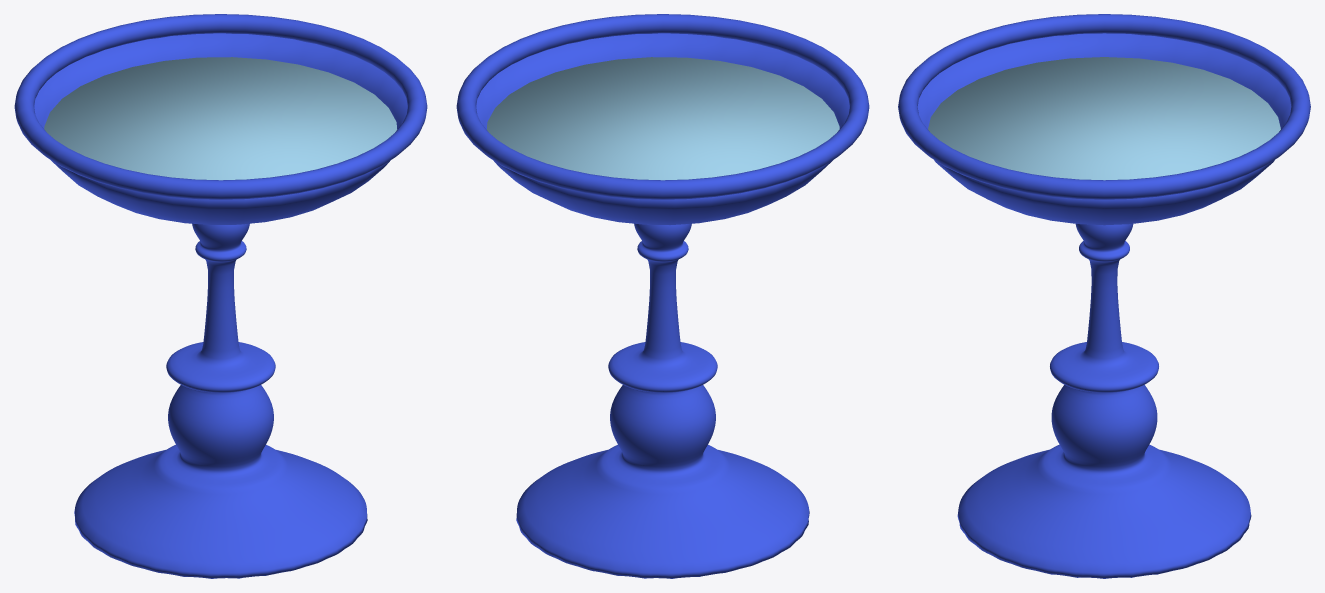
File: Bird Bath.fbx
3 views of the same model, side by side, from view 1: azimuth 30°, elevation 25°; view 2: azimuth 150°, elevation 25°; view 3: azimuth 270°, elevation 25° (orthographic).
Parts seen in each view (by area): view 1: Cylinder.024, Sphere.058, Torus.001, Sphere.057; view 2: Cylinder.024, Sphere.058, Torus.001, Sphere.057; view 3: Cylinder.024, Sphere.058, Torus.001, Sphere.057.
Part boxes in pixels (<box>): Cylinder.024: <box>74,223,367,578</box>; Sphere.058: <box>44,57,397,180</box>; Torus.001: <box>14,14,427,199</box>; Sphere.057: <box>34,33,407,225</box>; Cylinder.024: <box>516,223,809,578</box>; Sphere.058: <box>486,57,839,180</box>; Torus.001: <box>456,14,869,199</box>; Sphere.057: <box>476,33,849,225</box>; Cylinder.024: <box>957,224,1251,578</box>; Sphere.058: <box>928,57,1280,180</box>; Torus.001: <box>898,14,1310,199</box>; Sphere.057: <box>917,33,1291,225</box>.
Size of the model in its own units: 675 by 774 by 675.
